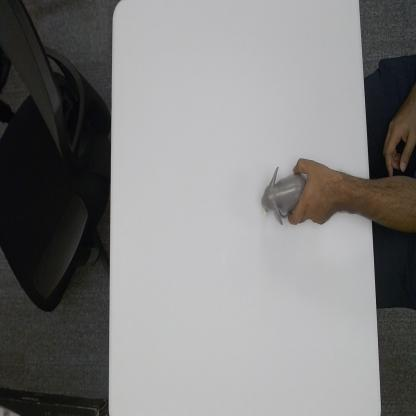Arm: (341, 170, 372, 221)
Elephant: (260, 164, 306, 228)
Hand: (289, 148, 340, 238)
